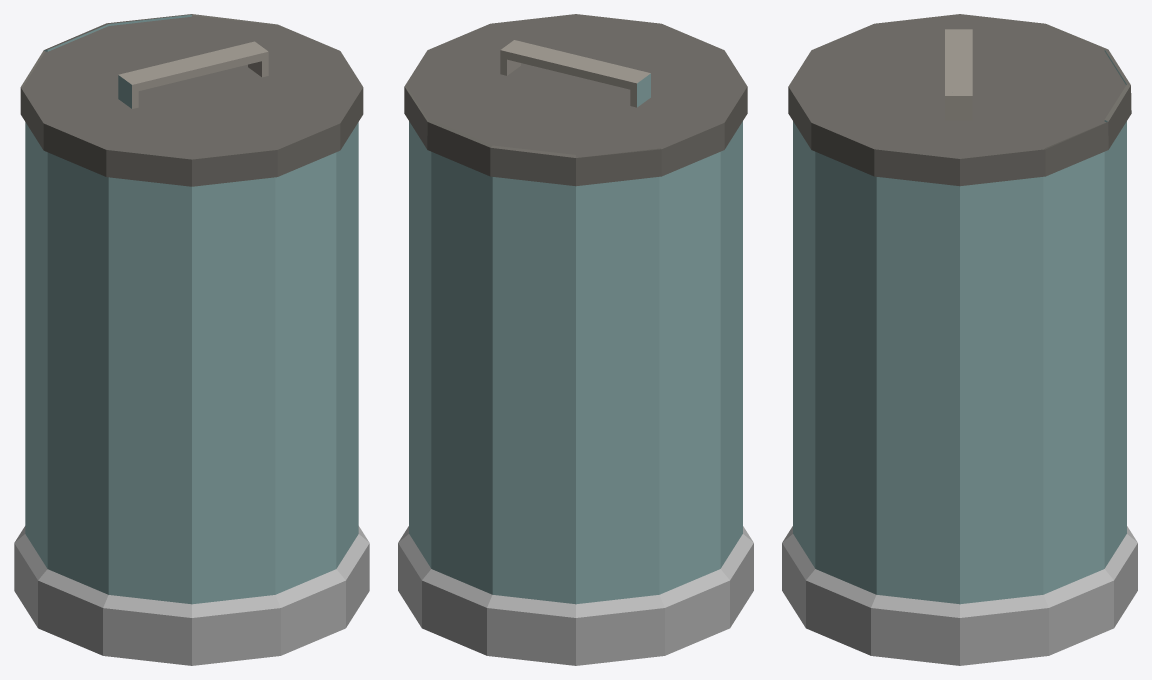
File: tr_trash_bin1_v2blend.fbx
3 views of the same model, side by side, from view 1: azimuth 30°, elevation 25°; view 2: azimuth 150°, elevation 25°; view 3: azimuth 270°, elevation 25° (orthographic).
Visible parts, largest first — view 1: Cylinder; view 2: Cylinder; view 3: Cylinder.
Boxes of the visible parts, x1,y1,x2,y2 form: Cylinder: [14, 14, 369, 665]; Cylinder: [398, 14, 753, 665]; Cylinder: [782, 14, 1137, 665].
Size of the model in its own units: 213 by 349 by 213.
